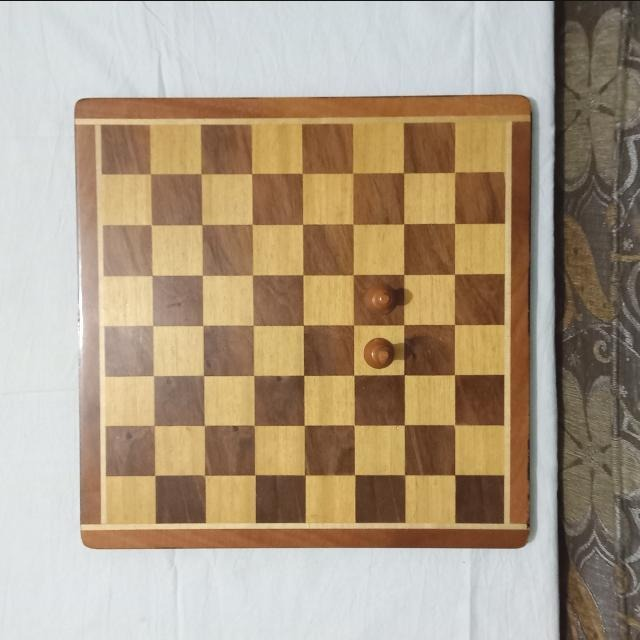white-pawn: (361, 335, 395, 369), (362, 283, 397, 312)
